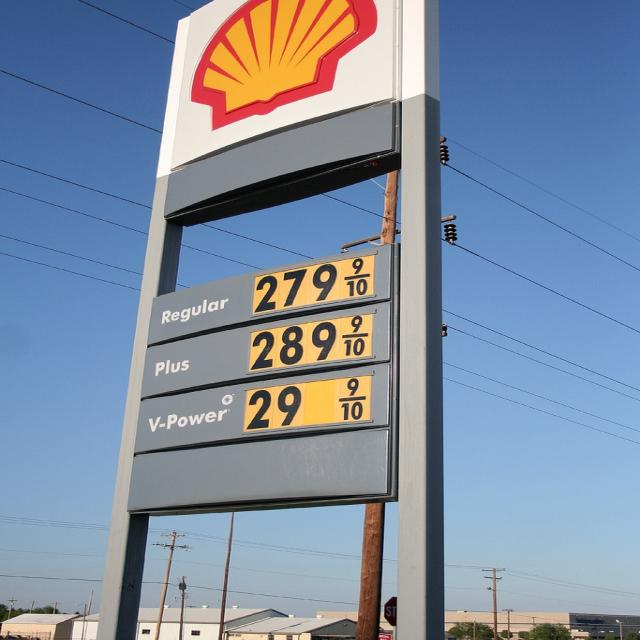shell: (190, 2, 377, 129)
